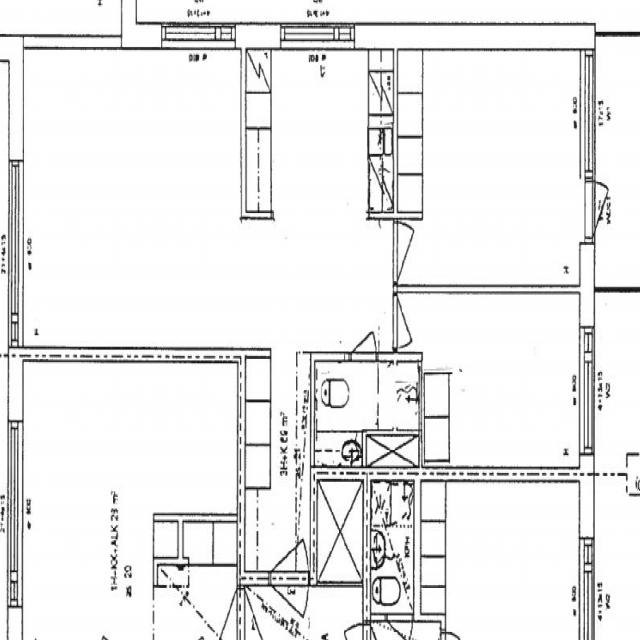door: (270, 506, 307, 585), (270, 571, 307, 640), (584, 180, 626, 238), (393, 222, 430, 280), (393, 296, 427, 348), (351, 308, 376, 361)
